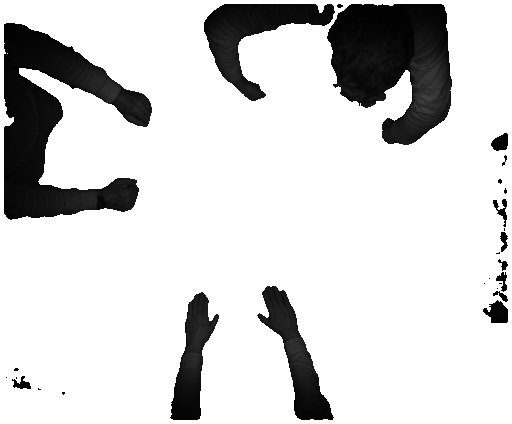fist: (106, 176, 143, 215), (119, 91, 151, 127), (241, 79, 271, 103)
hand: (256, 280, 300, 338), (184, 288, 223, 348)
